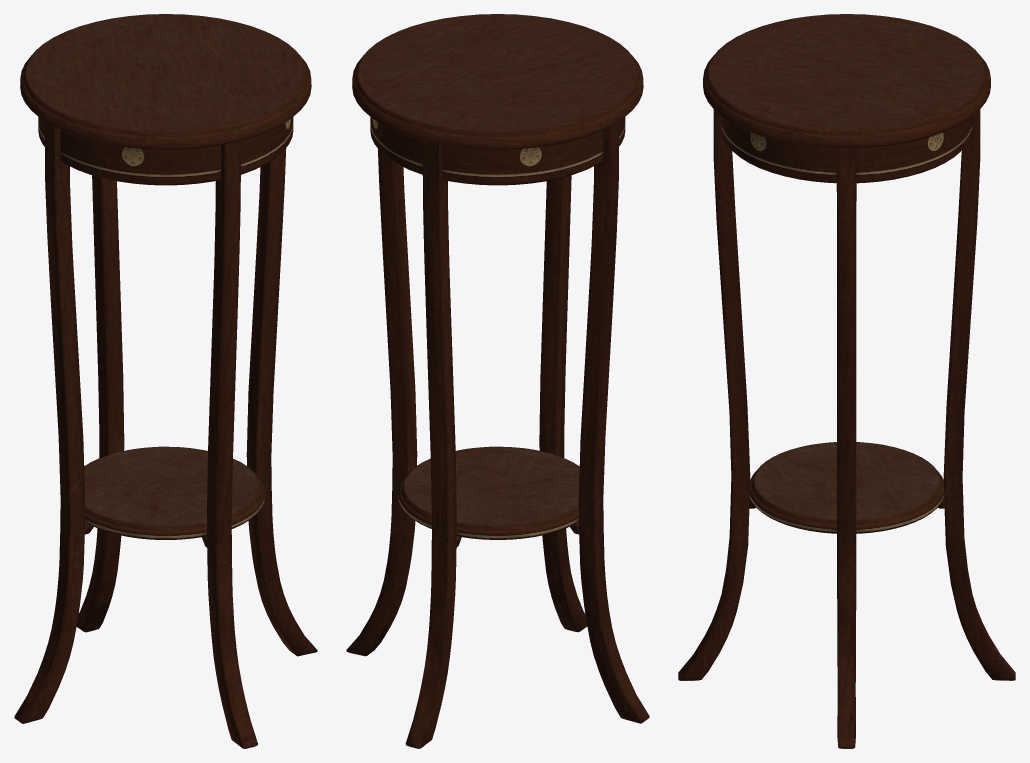
File: side_table_tall_01.glb
3 renders of one model, left to right at view 1: azimuth 30°, elevation 25°; view 2: azimuth 150°, elevation 25°; view 3: azimuth 270°, elevation 25°, orthographic.
Visible parts, largest first — view 1: side_table_tall_01; view 2: side_table_tall_01; view 3: side_table_tall_01.
Boxes of the visible parts, x1,y1,x2,y2 form: side_table_tall_01: (14,14,317,748); side_table_tall_01: (346,14,649,748); side_table_tall_01: (678,14,1015,748).
Bounding box in the file's own units: 0.384 × 0.7612 × 0.384.
1 material, 1 textured.
